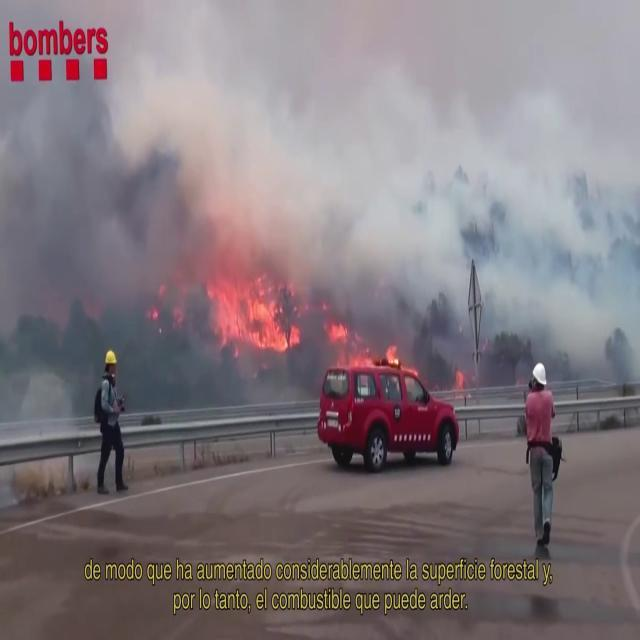Fire: (205, 263, 298, 357)
Smoke: (0, 0, 438, 364)
